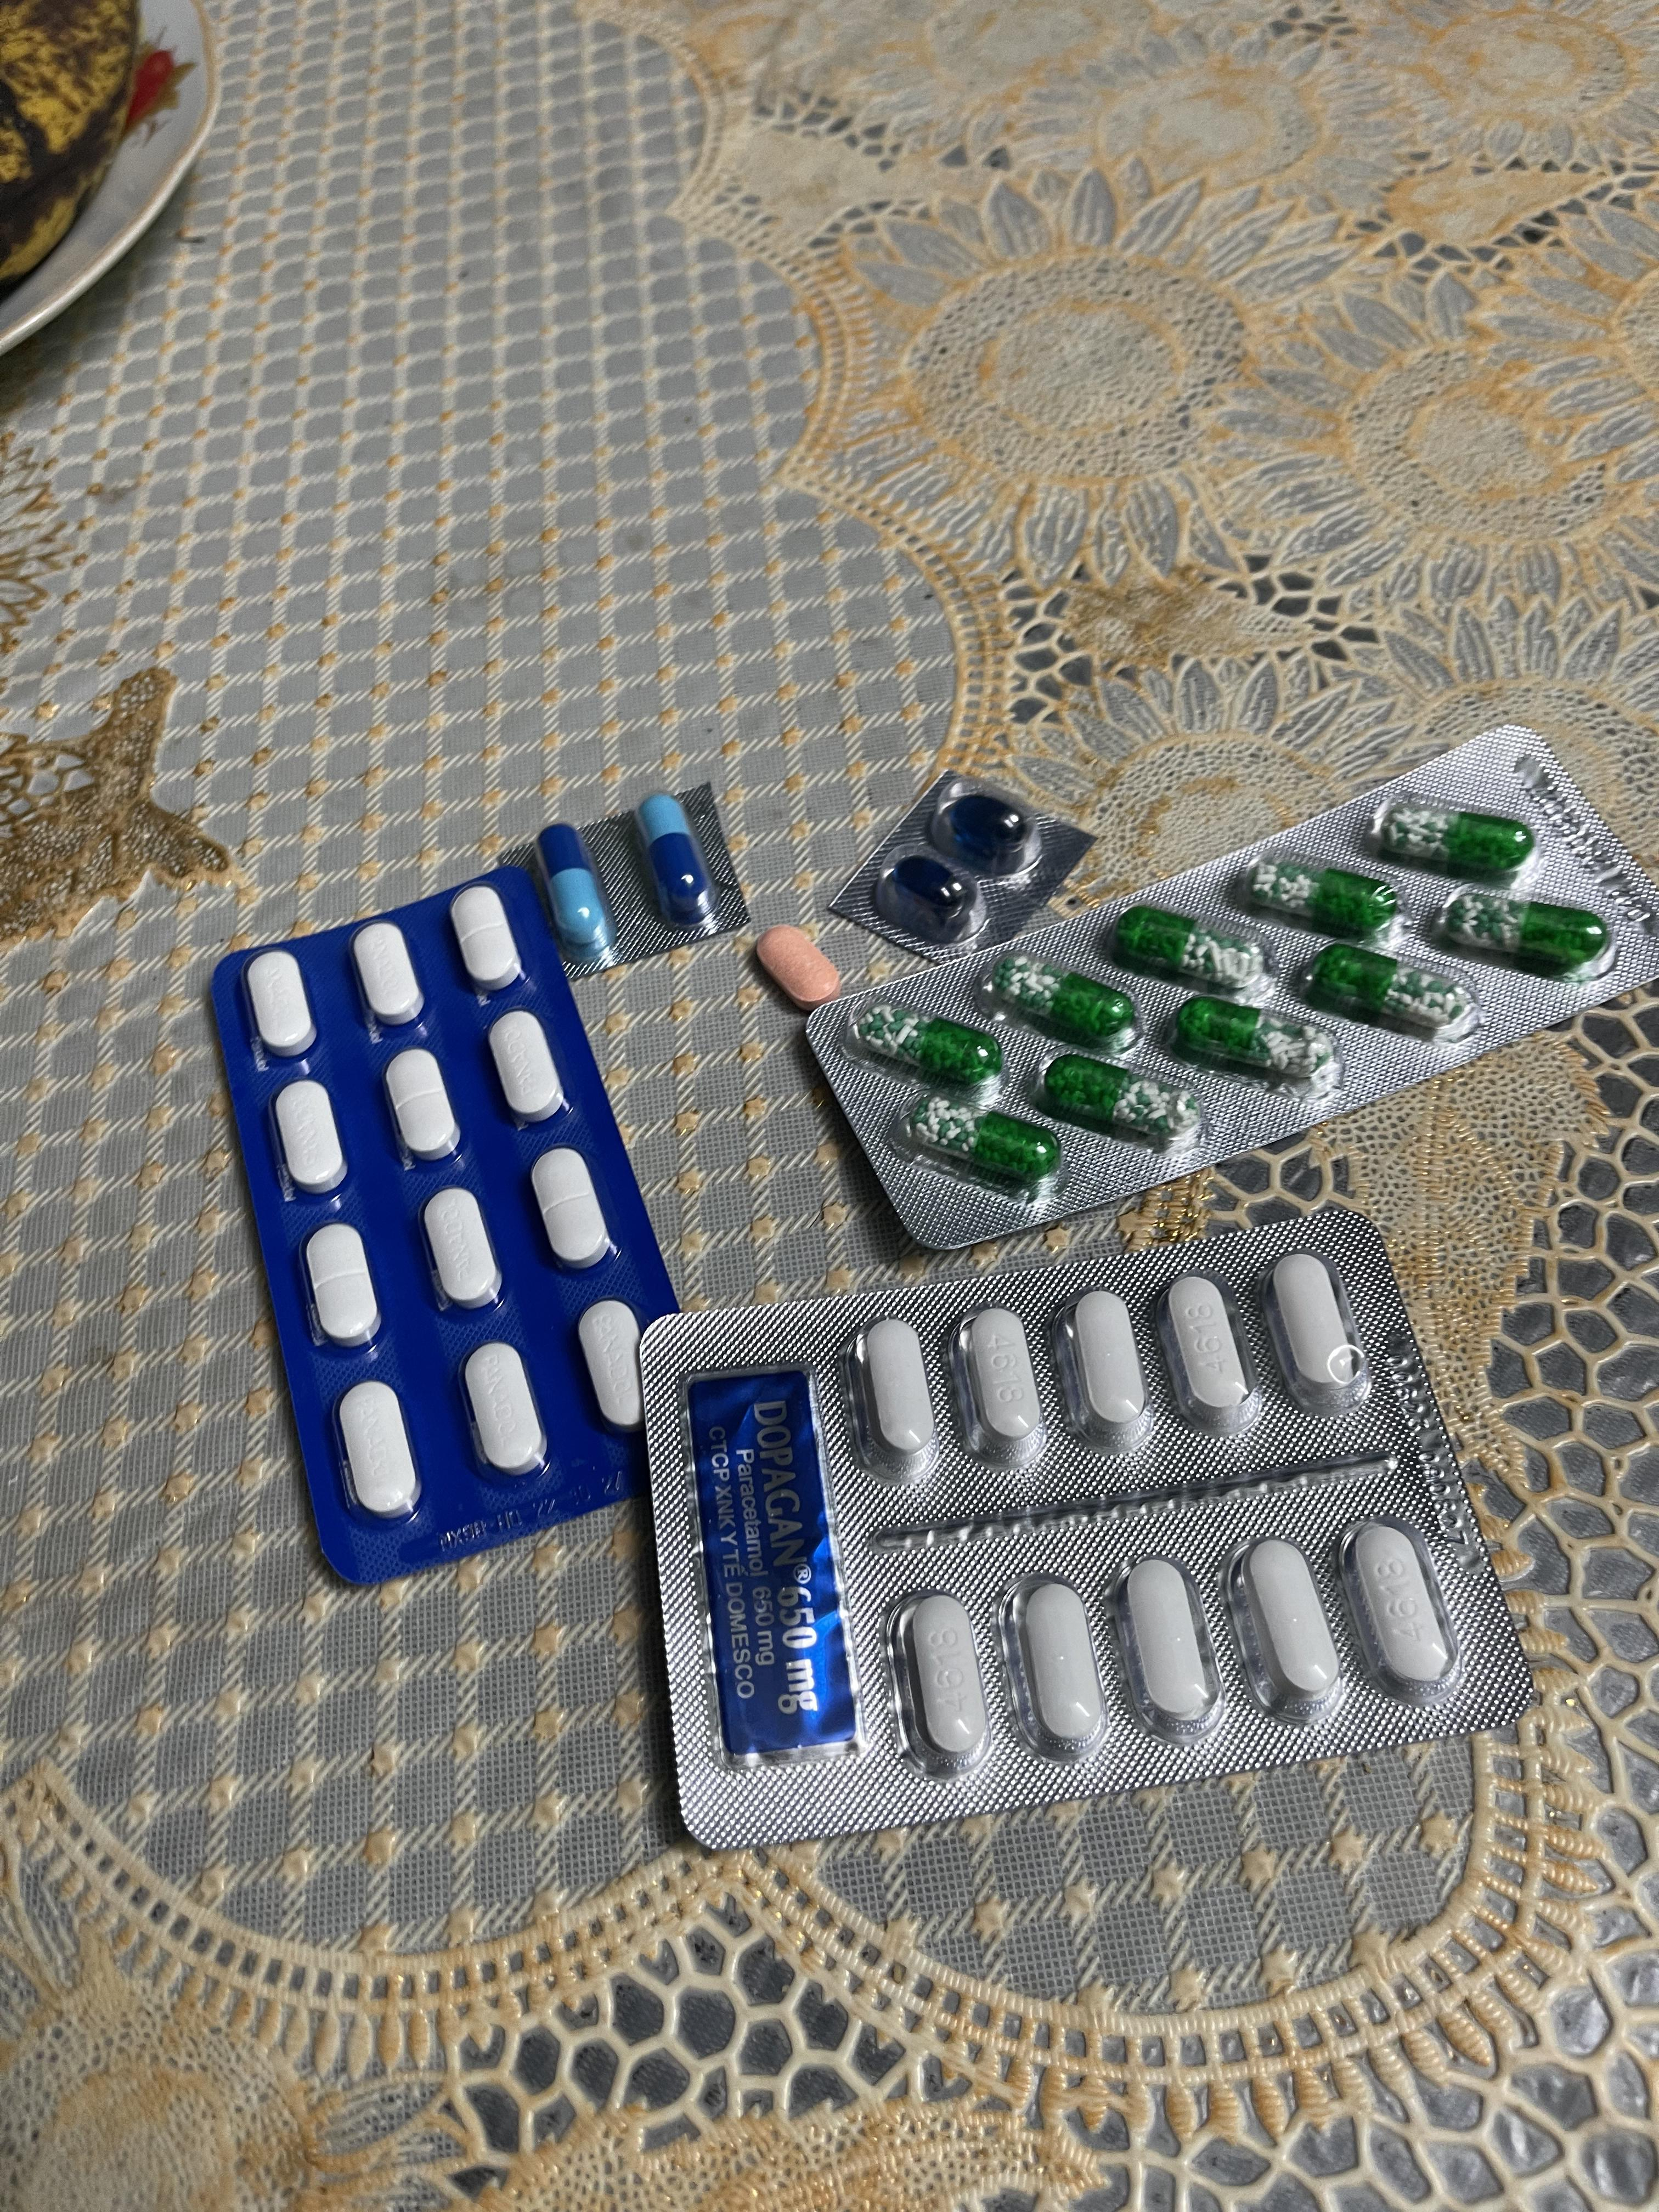Lincomyxin_500mg: (941, 793, 1032, 867), (894, 855, 968, 917)
Loratadine_10mg: (754, 925, 839, 1009)
Paracetamol_350mg: (337, 1380, 419, 1519), (463, 1345, 546, 1476), (532, 1148, 611, 1267), (421, 1188, 500, 1307), (304, 1224, 380, 1346), (577, 1299, 645, 1427), (272, 1080, 346, 1193), (489, 1011, 565, 1120), (384, 1049, 458, 1158), (245, 952, 315, 1058), (351, 923, 423, 1026), (450, 885, 521, 983)
Paracetamol_500mg: (1103, 1555, 1224, 1754), (1339, 1519, 1465, 1708), (1227, 1531, 1348, 1726), (1001, 1572, 1110, 1765), (885, 1585, 991, 1780), (1149, 1270, 1262, 1443), (1262, 1255, 1372, 1422), (1049, 1286, 1156, 1455), (949, 1307, 1049, 1474), (845, 1318, 944, 1483)
Paracetamol_650mg: (1302, 944, 1478, 1034), (1164, 992, 1331, 1085), (904, 1096, 1065, 1188), (1436, 891, 1612, 975), (985, 953, 1146, 1045), (1038, 1054, 1202, 1141), (1109, 906, 1270, 990), (857, 1000, 1004, 1085), (1244, 860, 1401, 935), (1379, 806, 1533, 876)
pill: (532, 830, 615, 959), (637, 795, 714, 924)
